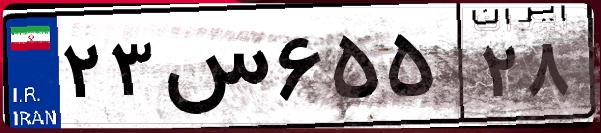2: (57, 26, 110, 100), (475, 38, 525, 113)
3: (110, 28, 158, 98)
5: (385, 28, 445, 110), (330, 28, 385, 110)
6: (270, 28, 330, 110)
8: (525, 38, 570, 115)
س: (158, 20, 270, 120)
